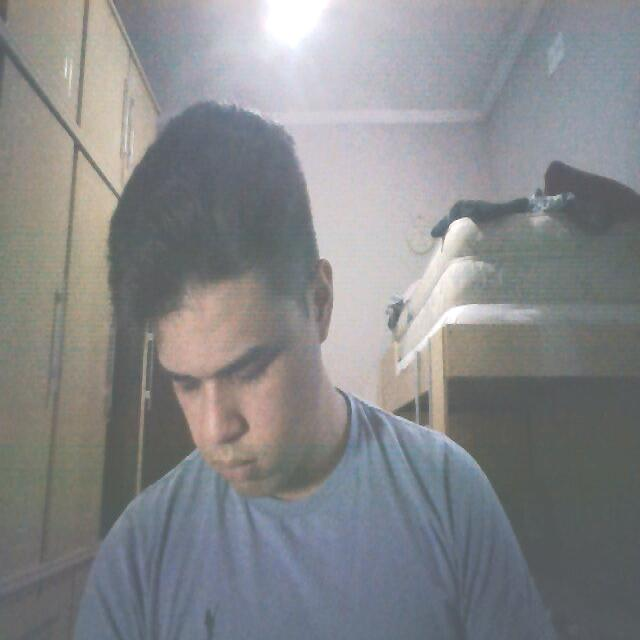sonolento: (109, 237, 346, 525)
